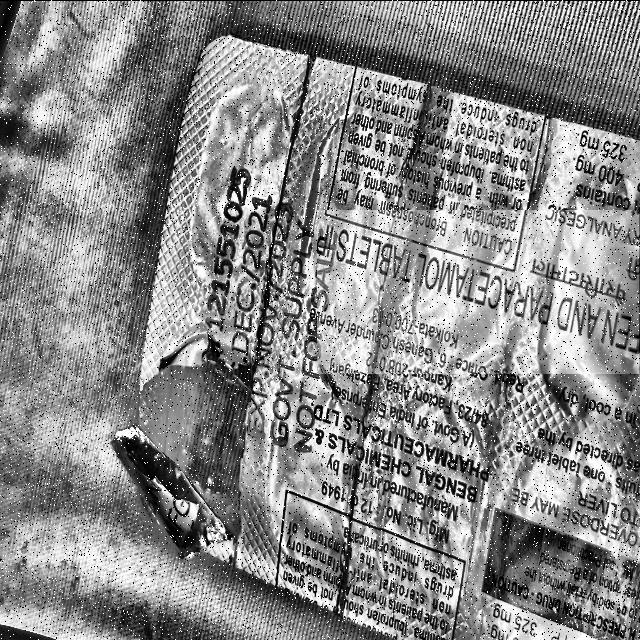IBUPROFEN AND PARACETAMOL TABLETS: (318, 209, 638, 371)
